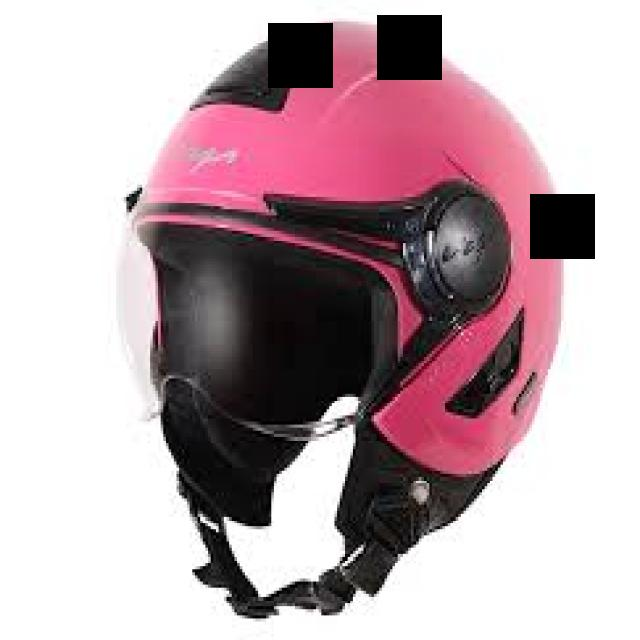Helmet: (129, 23, 563, 618)
